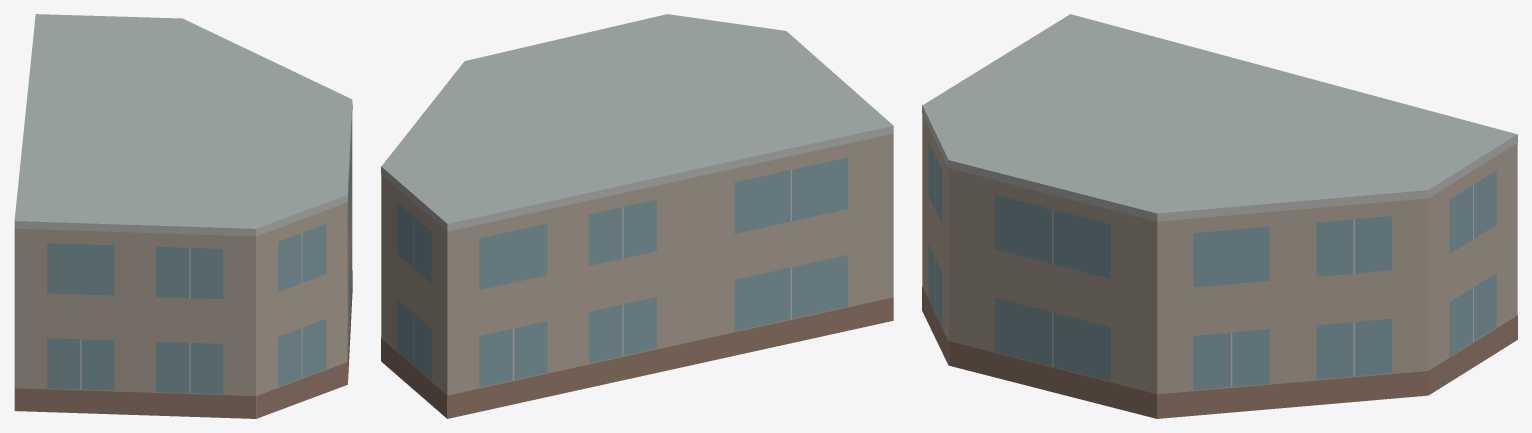
File: survey-upis-32579132.glb
3 renders of one model, left to right at view 1: azimuth 30°, elevation 25°; view 2: azimuth 150°, elevation 25°; view 3: azimuth 270°, elevation 25°, orthographic. The views are drawn at different scales.
Parts seen in each view (by area): view 1: survey-upis-32579132.tmp; view 2: survey-upis-32579132.tmp; view 3: survey-upis-32579132.tmp.
Boxes of the visible parts, x1,y1,x2,y2 form: survey-upis-32579132.tmp: (14, 14, 352, 418); survey-upis-32579132.tmp: (381, 14, 893, 418); survey-upis-32579132.tmp: (922, 14, 1517, 418).
Size of the model in its own units: 12.72 by 6.1 by 16.04.
